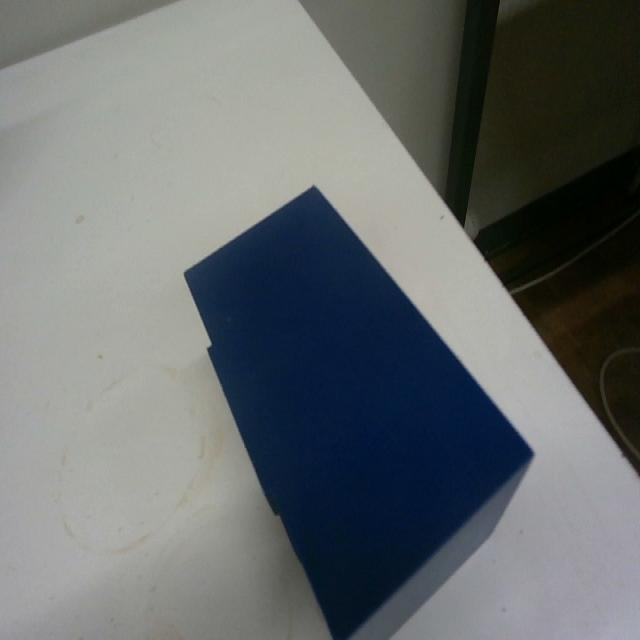Blue Cuboid: (181, 180, 535, 637)
